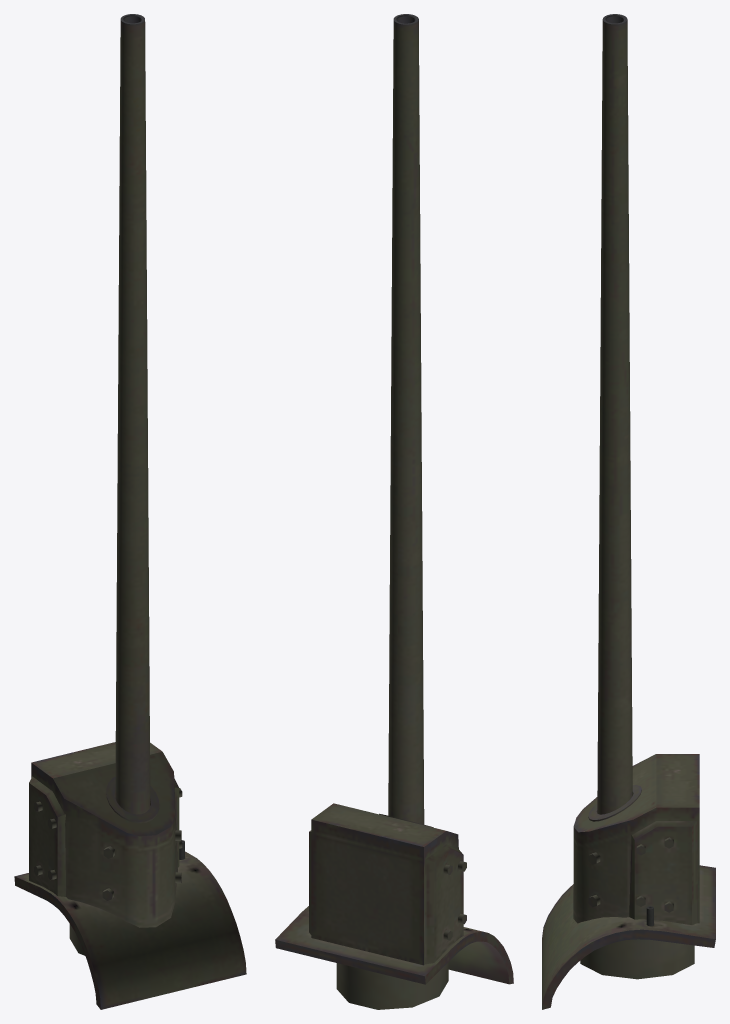
Rendered from Gun_03.glb.
The picture shows the model from 3 angles, left to right: view 1: azimuth 30°, elevation 25°; view 2: azimuth 150°, elevation 25°; view 3: azimuth 270°, elevation 25°; orthographic projection. The views are drawn at different scales.
Visible parts, largest first — view 1: set_0_group_0; view 2: set_0_group_0; view 3: set_0_group_0.
Part boxes in pixels (bbox=[...]): set_0_group_0: bbox=[14, 14, 246, 1009]; set_0_group_0: bbox=[275, 14, 513, 1009]; set_0_group_0: bbox=[542, 14, 715, 1009].
Size of the model in its own units: 0.5513 by 3.39 by 0.561.
Materials: 1 (1 with a texture image).
